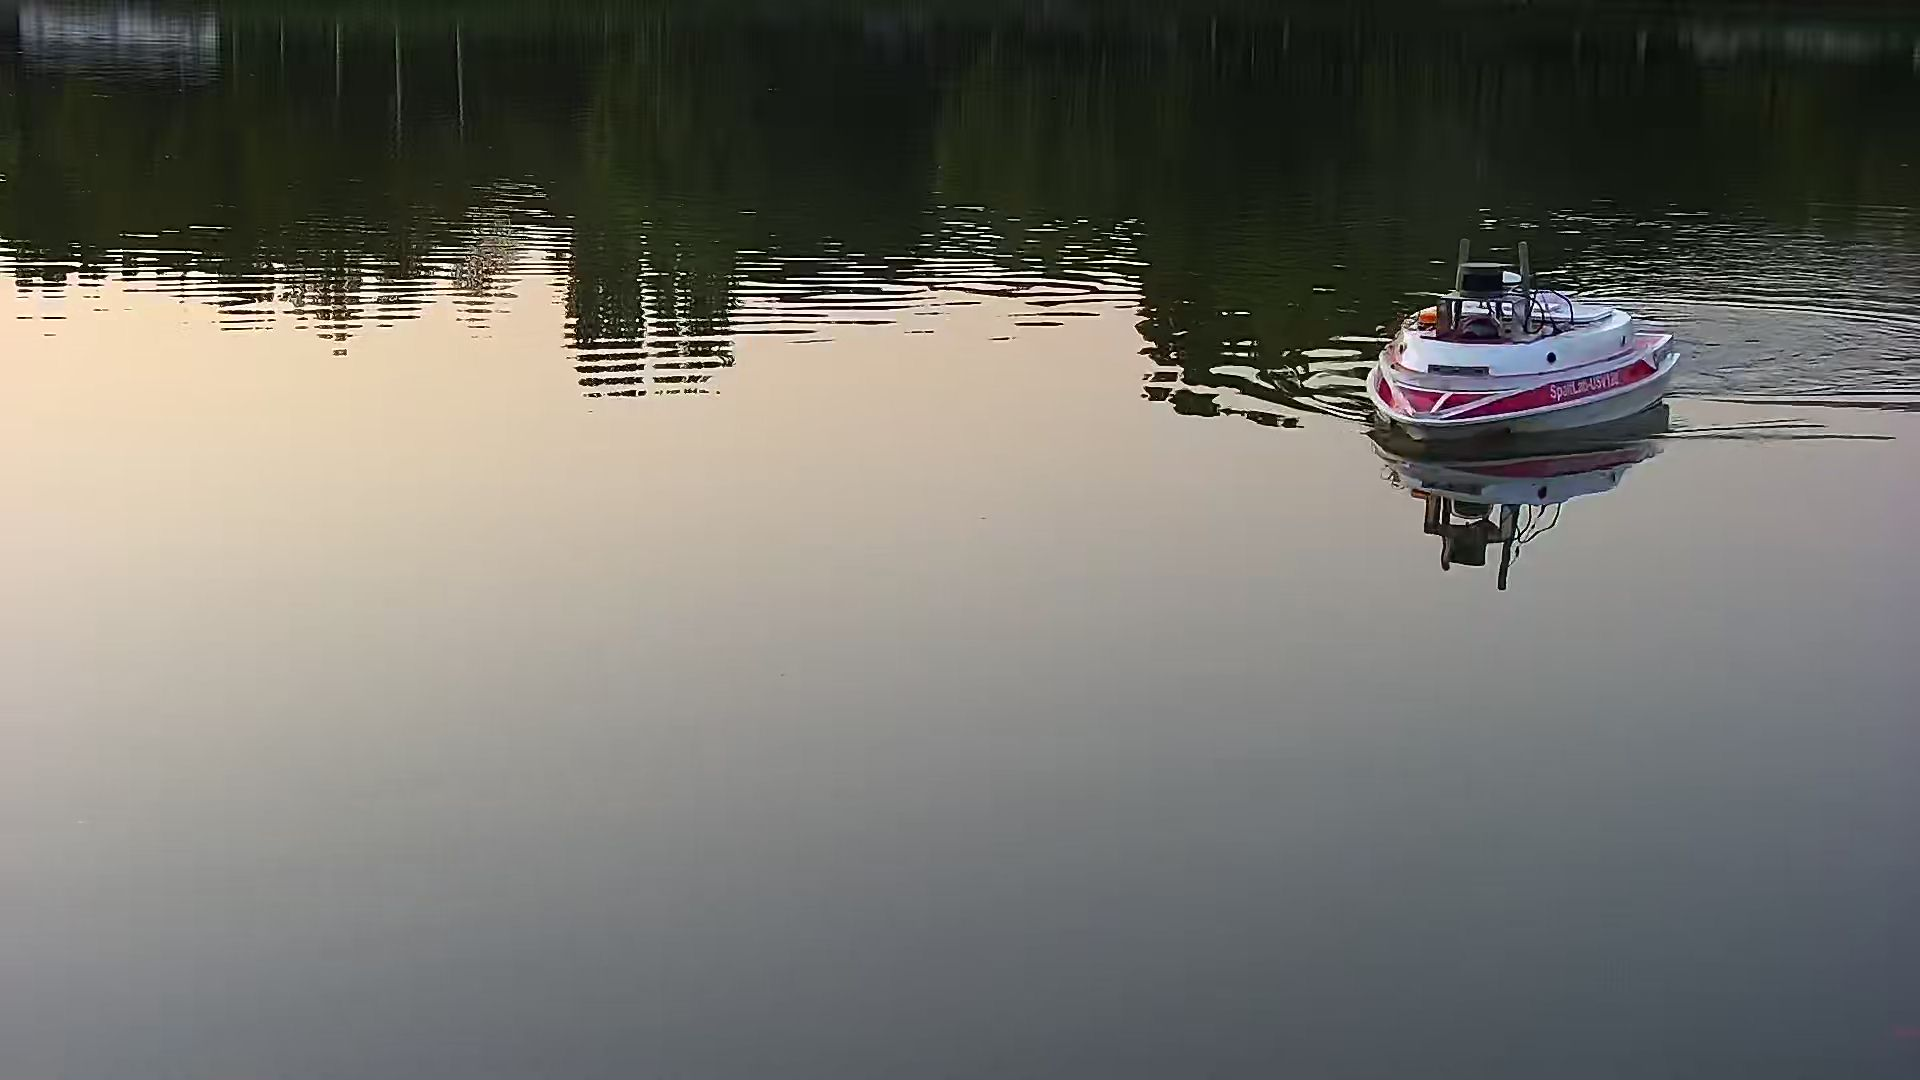boat: (1373, 235, 1675, 469)
